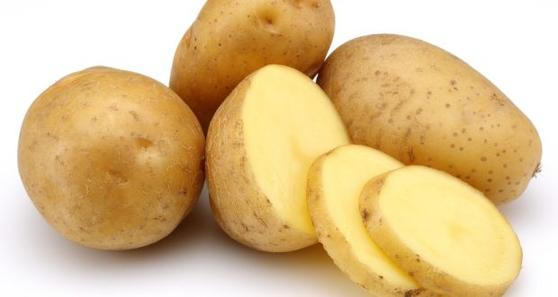potato: (324, 26, 556, 208), (12, 66, 208, 251)
